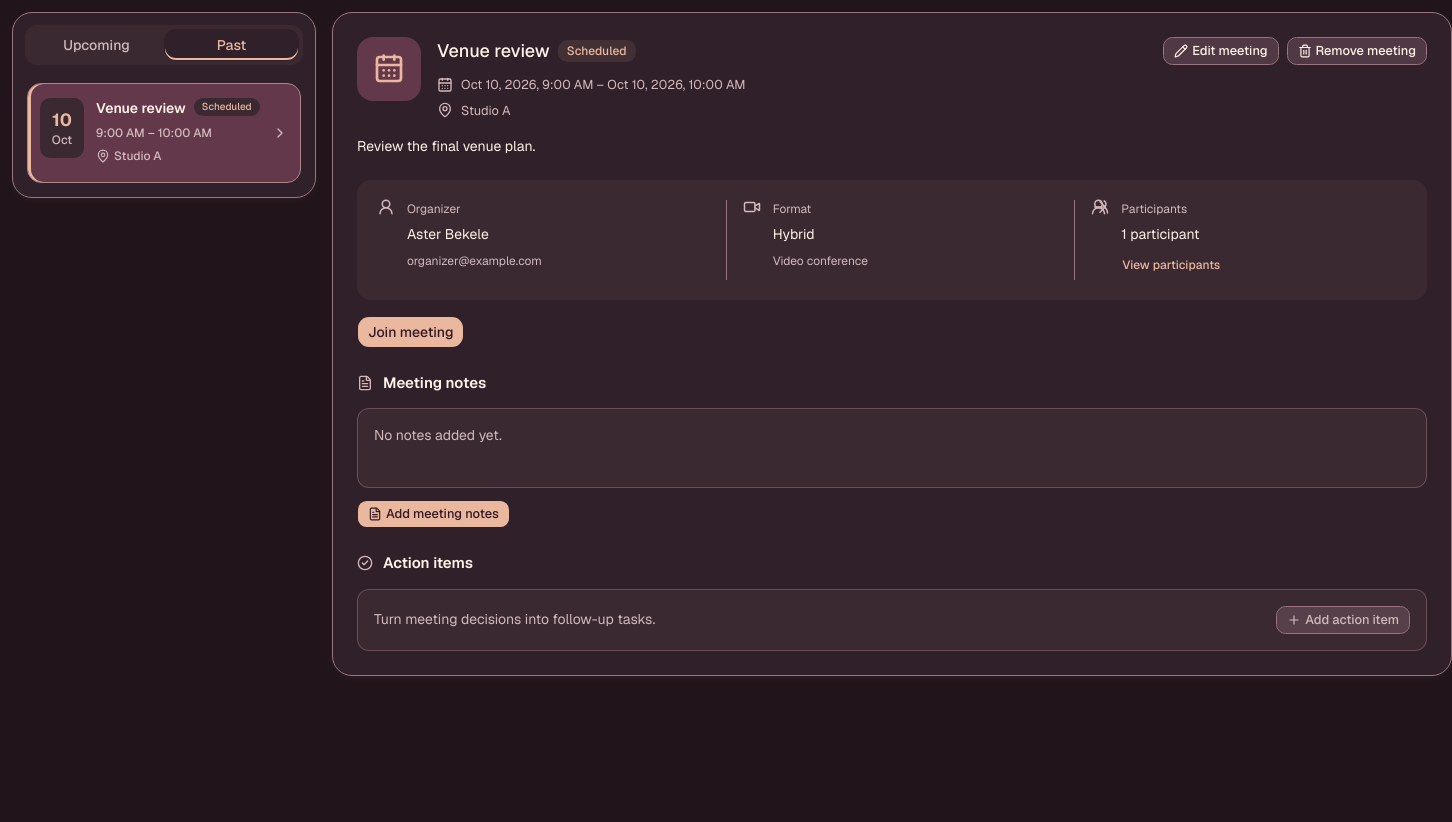
Test: MeetingsManager › opens the notes editor and preserves its draft after a failed save
Click the button "Add meeting notes": x=433, y=514 [357,500,510,528]
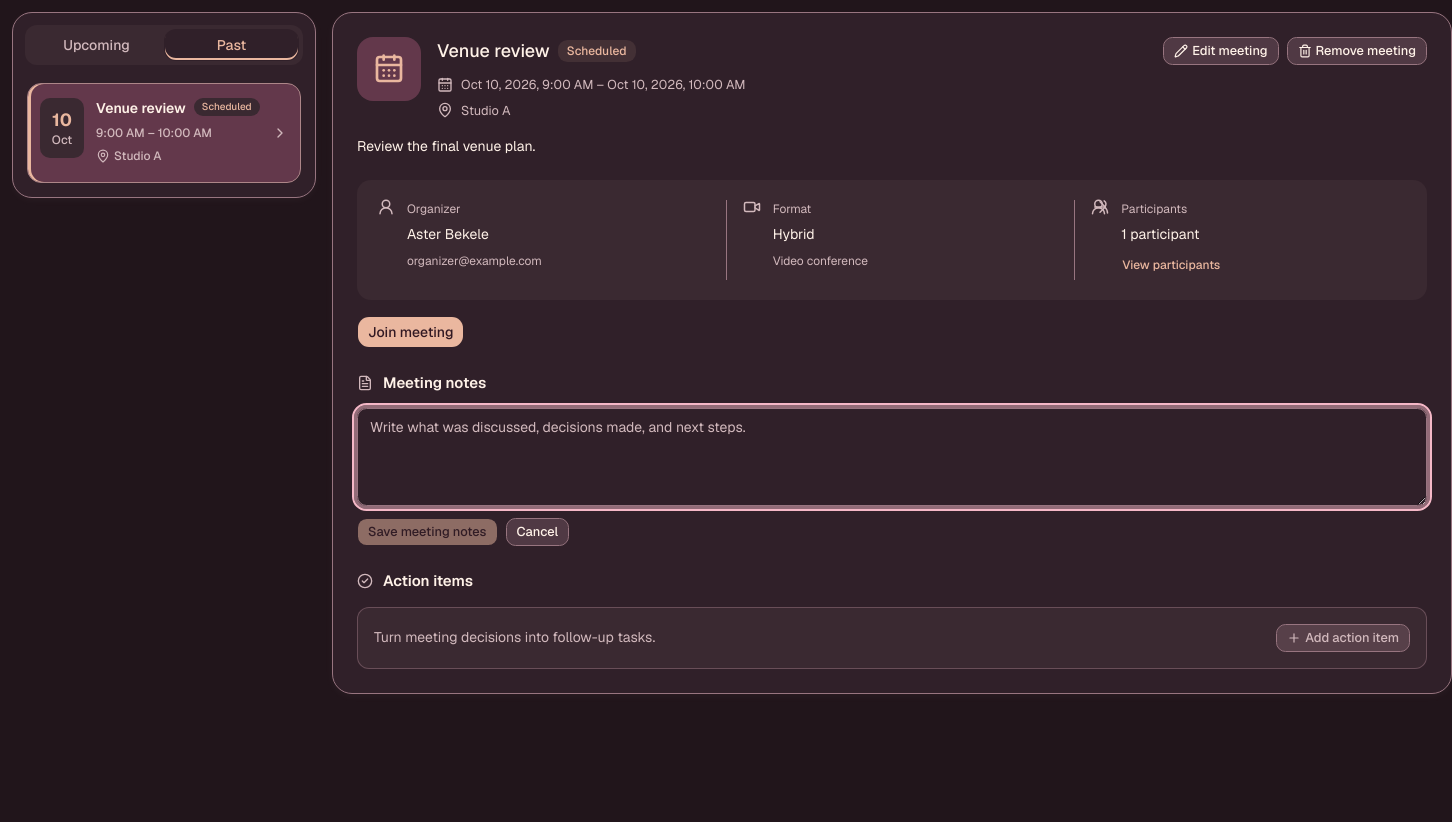
In the text box named "Meeting notes": x=892, y=457 [357,408,1427,506], type "Confirm the venue booking."
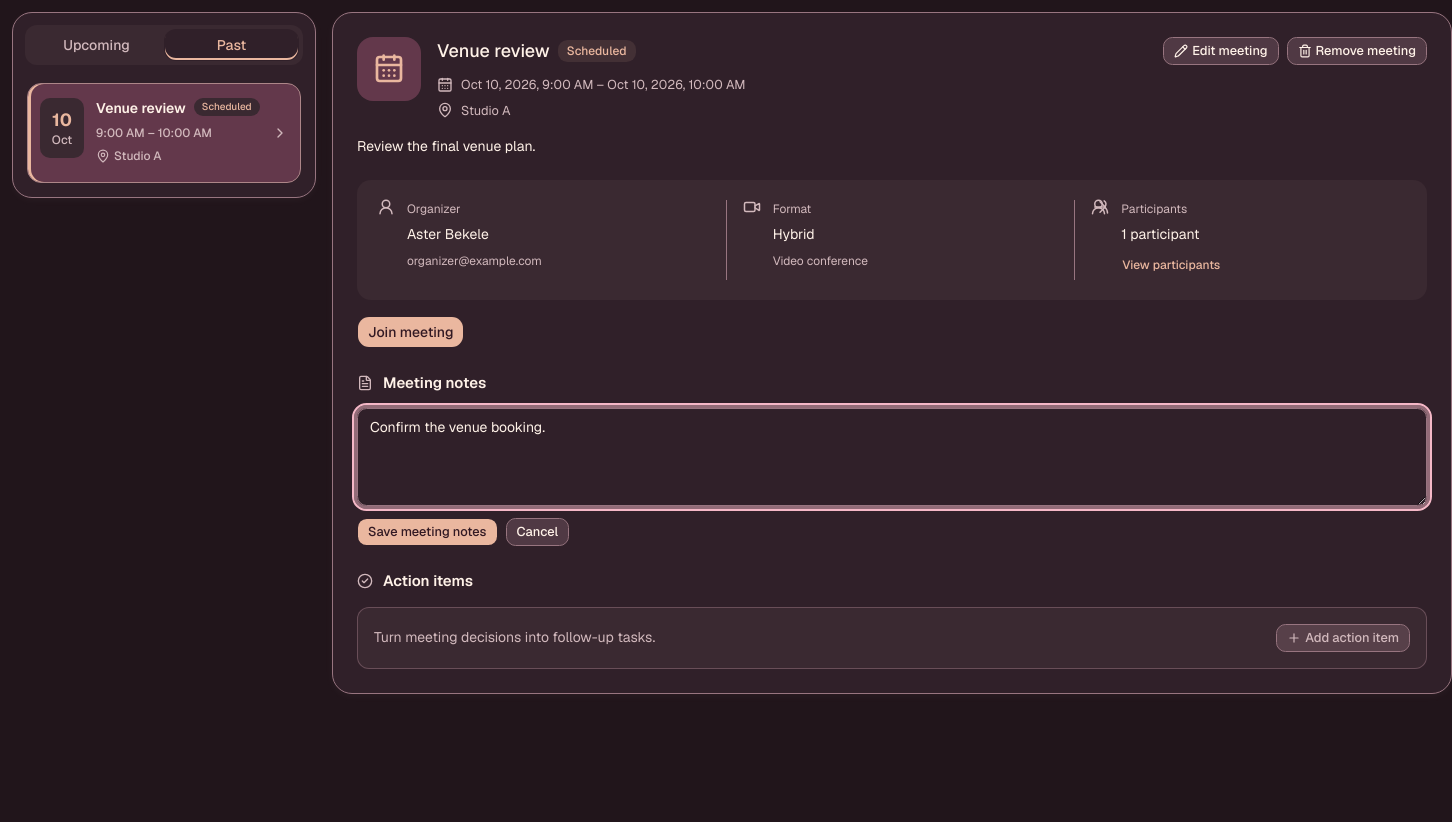
Click the button "Save meeting notes": x=427, y=532 [357,518,498,546]
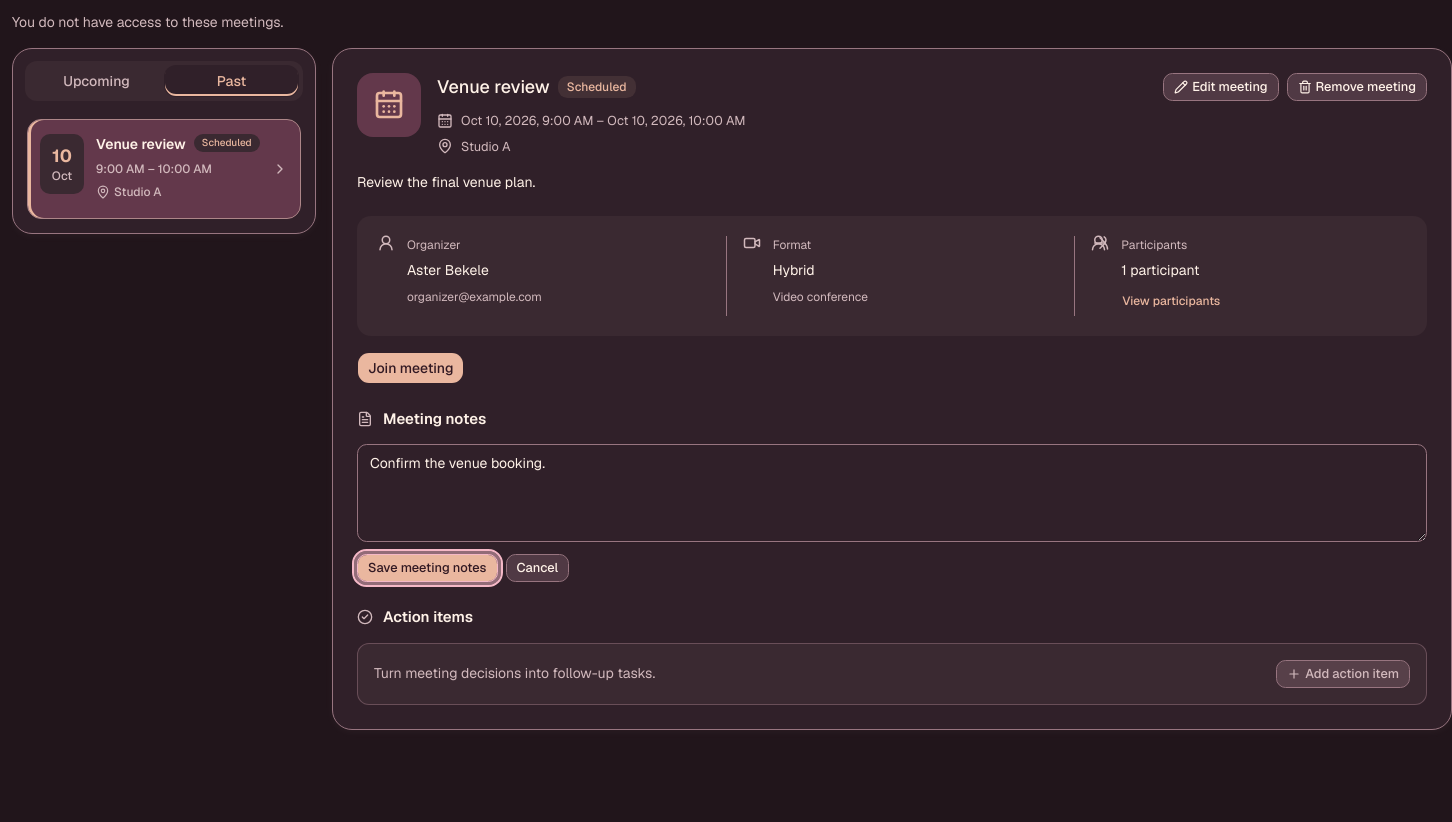
Expected: the message shows "do not have access", [12,13,283,31]
